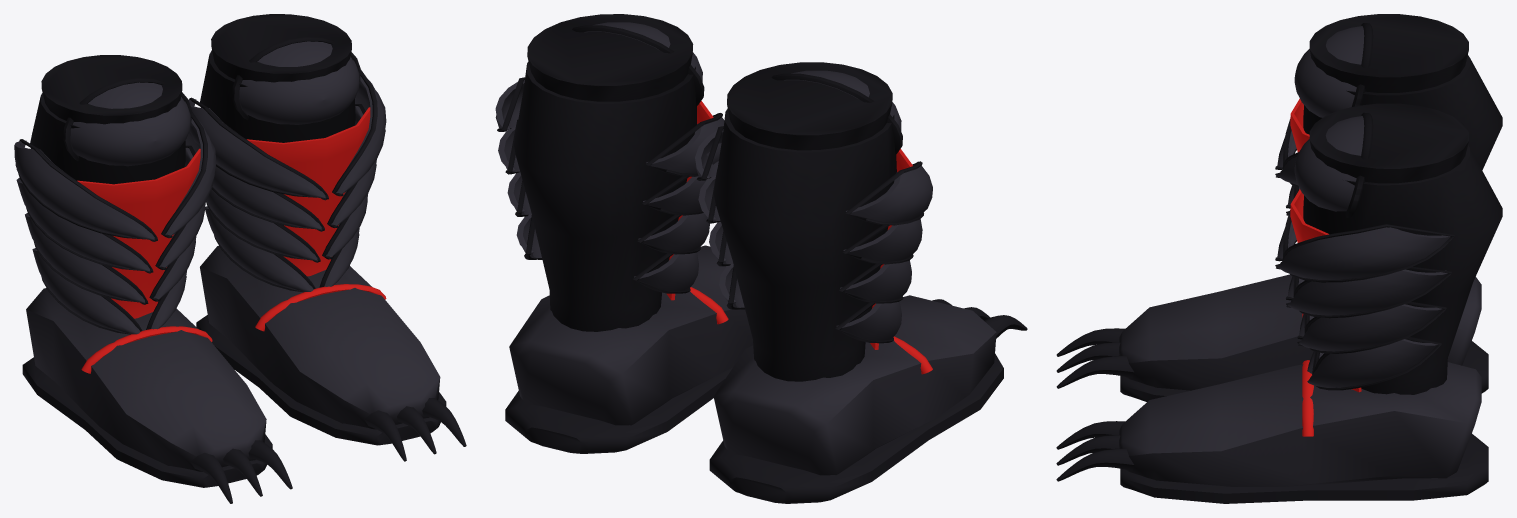
The model's file is f_emberscale_d.glb.
3 renders of one model, left to right at view 1: azimuth 30°, elevation 25°; view 2: azimuth 150°, elevation 25°; view 3: azimuth 270°, elevation 25°, orthographic. The views are drawn at different scales.
Visible parts, largest first — view 1: LegR_Boot, LegL_Boot, LegR_BootFoot, LegL_BootFoot, LegR_Shin, LegL_Shin; view 2: LegR_BootFoot, LegR_Shin, LegL_Shin, LegL_BootFoot, LegR_Boot, LegL_Boot; view 3: LegL_BootFoot, LegL_Boot, LegR_BootFoot, LegL_Shin, LegR_Boot, LegR_Shin.
Part boxes in pixels (x1=…): LegR_Boot: x1=14, y1=55, x2=216, y2=334; LegL_Boot: x1=188, y1=14, x2=386, y2=292; LegR_BootFoot: x1=22, y1=288, x2=292, y2=503; LegL_BootFoot: x1=196, y1=246, x2=466, y2=461; LegR_Shin: x1=30, y1=93, x2=185, y2=184; LegL_Shin: x1=200, y1=50, x2=355, y2=142; LegR_BootFoot: x1=709, y1=295, x2=1027, y2=503; LegR_Shin: x1=713, y1=108, x2=896, y2=381; LegL_Shin: x1=513, y1=61, x2=696, y2=331; LegL_BootFoot: x1=505, y1=245, x2=753, y2=453; LegR_Boot: x1=695, y1=62, x2=932, y2=349; LegL_Boot: x1=495, y1=14, x2=724, y2=300; LegL_BootFoot: x1=1056, y1=360, x2=1488, y2=503; LegL_Boot: x1=1275, y1=103, x2=1468, y2=392; LegR_BootFoot: x1=1056, y1=274, x2=1488, y2=401; LegL_Shin: x1=1303, y1=145, x2=1502, y2=394; LegR_Boot: x1=1275, y1=14, x2=1468, y2=215; LegR_Shin: x1=1303, y1=55, x2=1502, y2=170.
Size of the model in its own units: 0.4419 by 0.3895 by 0.4481.
